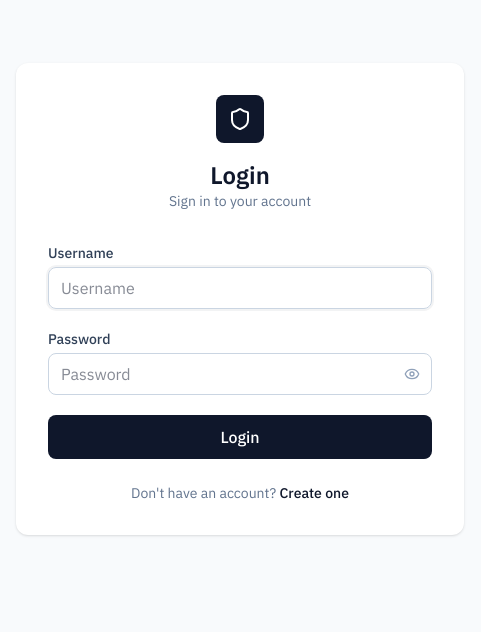
Test: LoginPage › displays generic error message for non-ApiError failures
Type "testuser" into the field labelled "Username" at [240, 288], box x1=48 y1=267 x2=432 y2=309
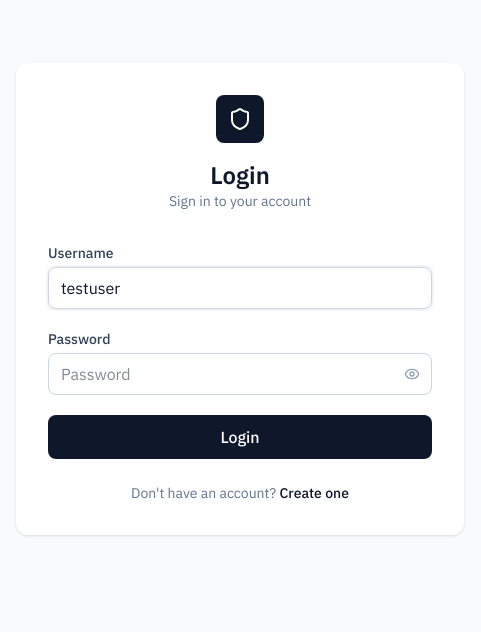
Type "wrongpassword" into the password field with placeholder "Password" at [240, 374], box x1=48 y1=353 x2=432 y2=395
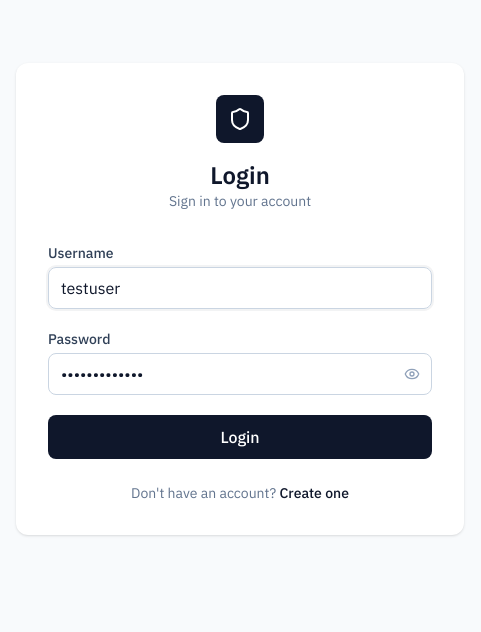
Click the button with aria-label "sign in" at [240, 437], box x1=48 y1=415 x2=432 y2=459
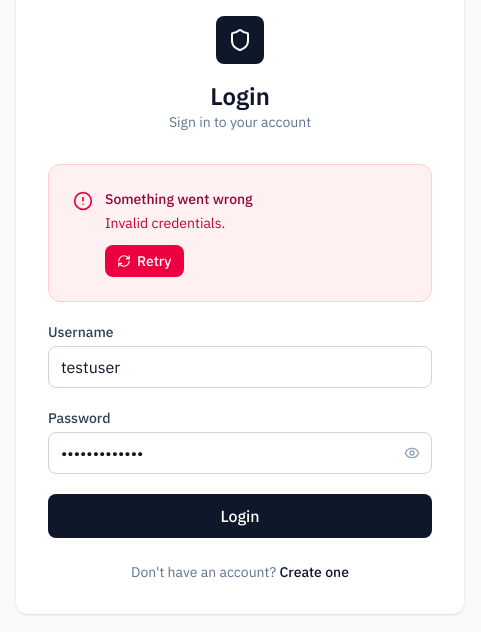
expect the text "Invalid credentials." is shown: met, box x1=105 y1=214 x2=225 y2=232
